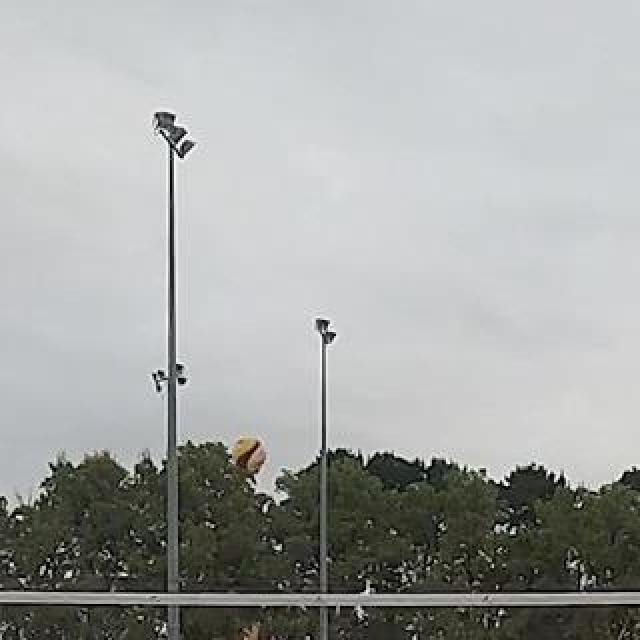volleyball: (232, 438, 266, 472)
